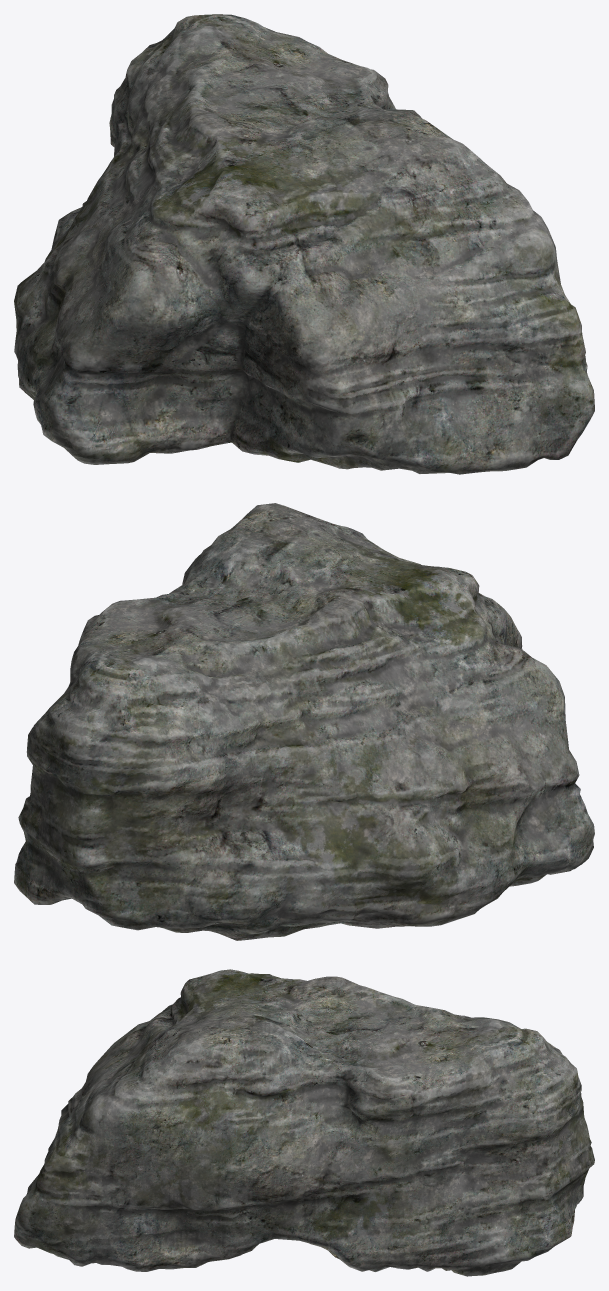
File: SM_Stone_D.fbx
The picture shows the model from 3 angles, top to bottom: view 1: azimuth 30°, elevation 25°; view 2: azimuth 150°, elevation 25°; view 3: azimuth 270°, elevation 25°; orthographic projection. The views are drawn at different scales.
Visible parts, largest first — view 1: SM_Stone_D_LOD0; view 2: SM_Stone_D_LOD0; view 3: SM_Stone_D_LOD0.
Boxes of the visible parts, x1,y1,x2,y2 form: SM_Stone_D_LOD0: (14, 14, 594, 474); SM_Stone_D_LOD0: (14, 503, 594, 940); SM_Stone_D_LOD0: (14, 969, 594, 1276).
Bounding box in the file's own units: 173 × 244 × 105.
